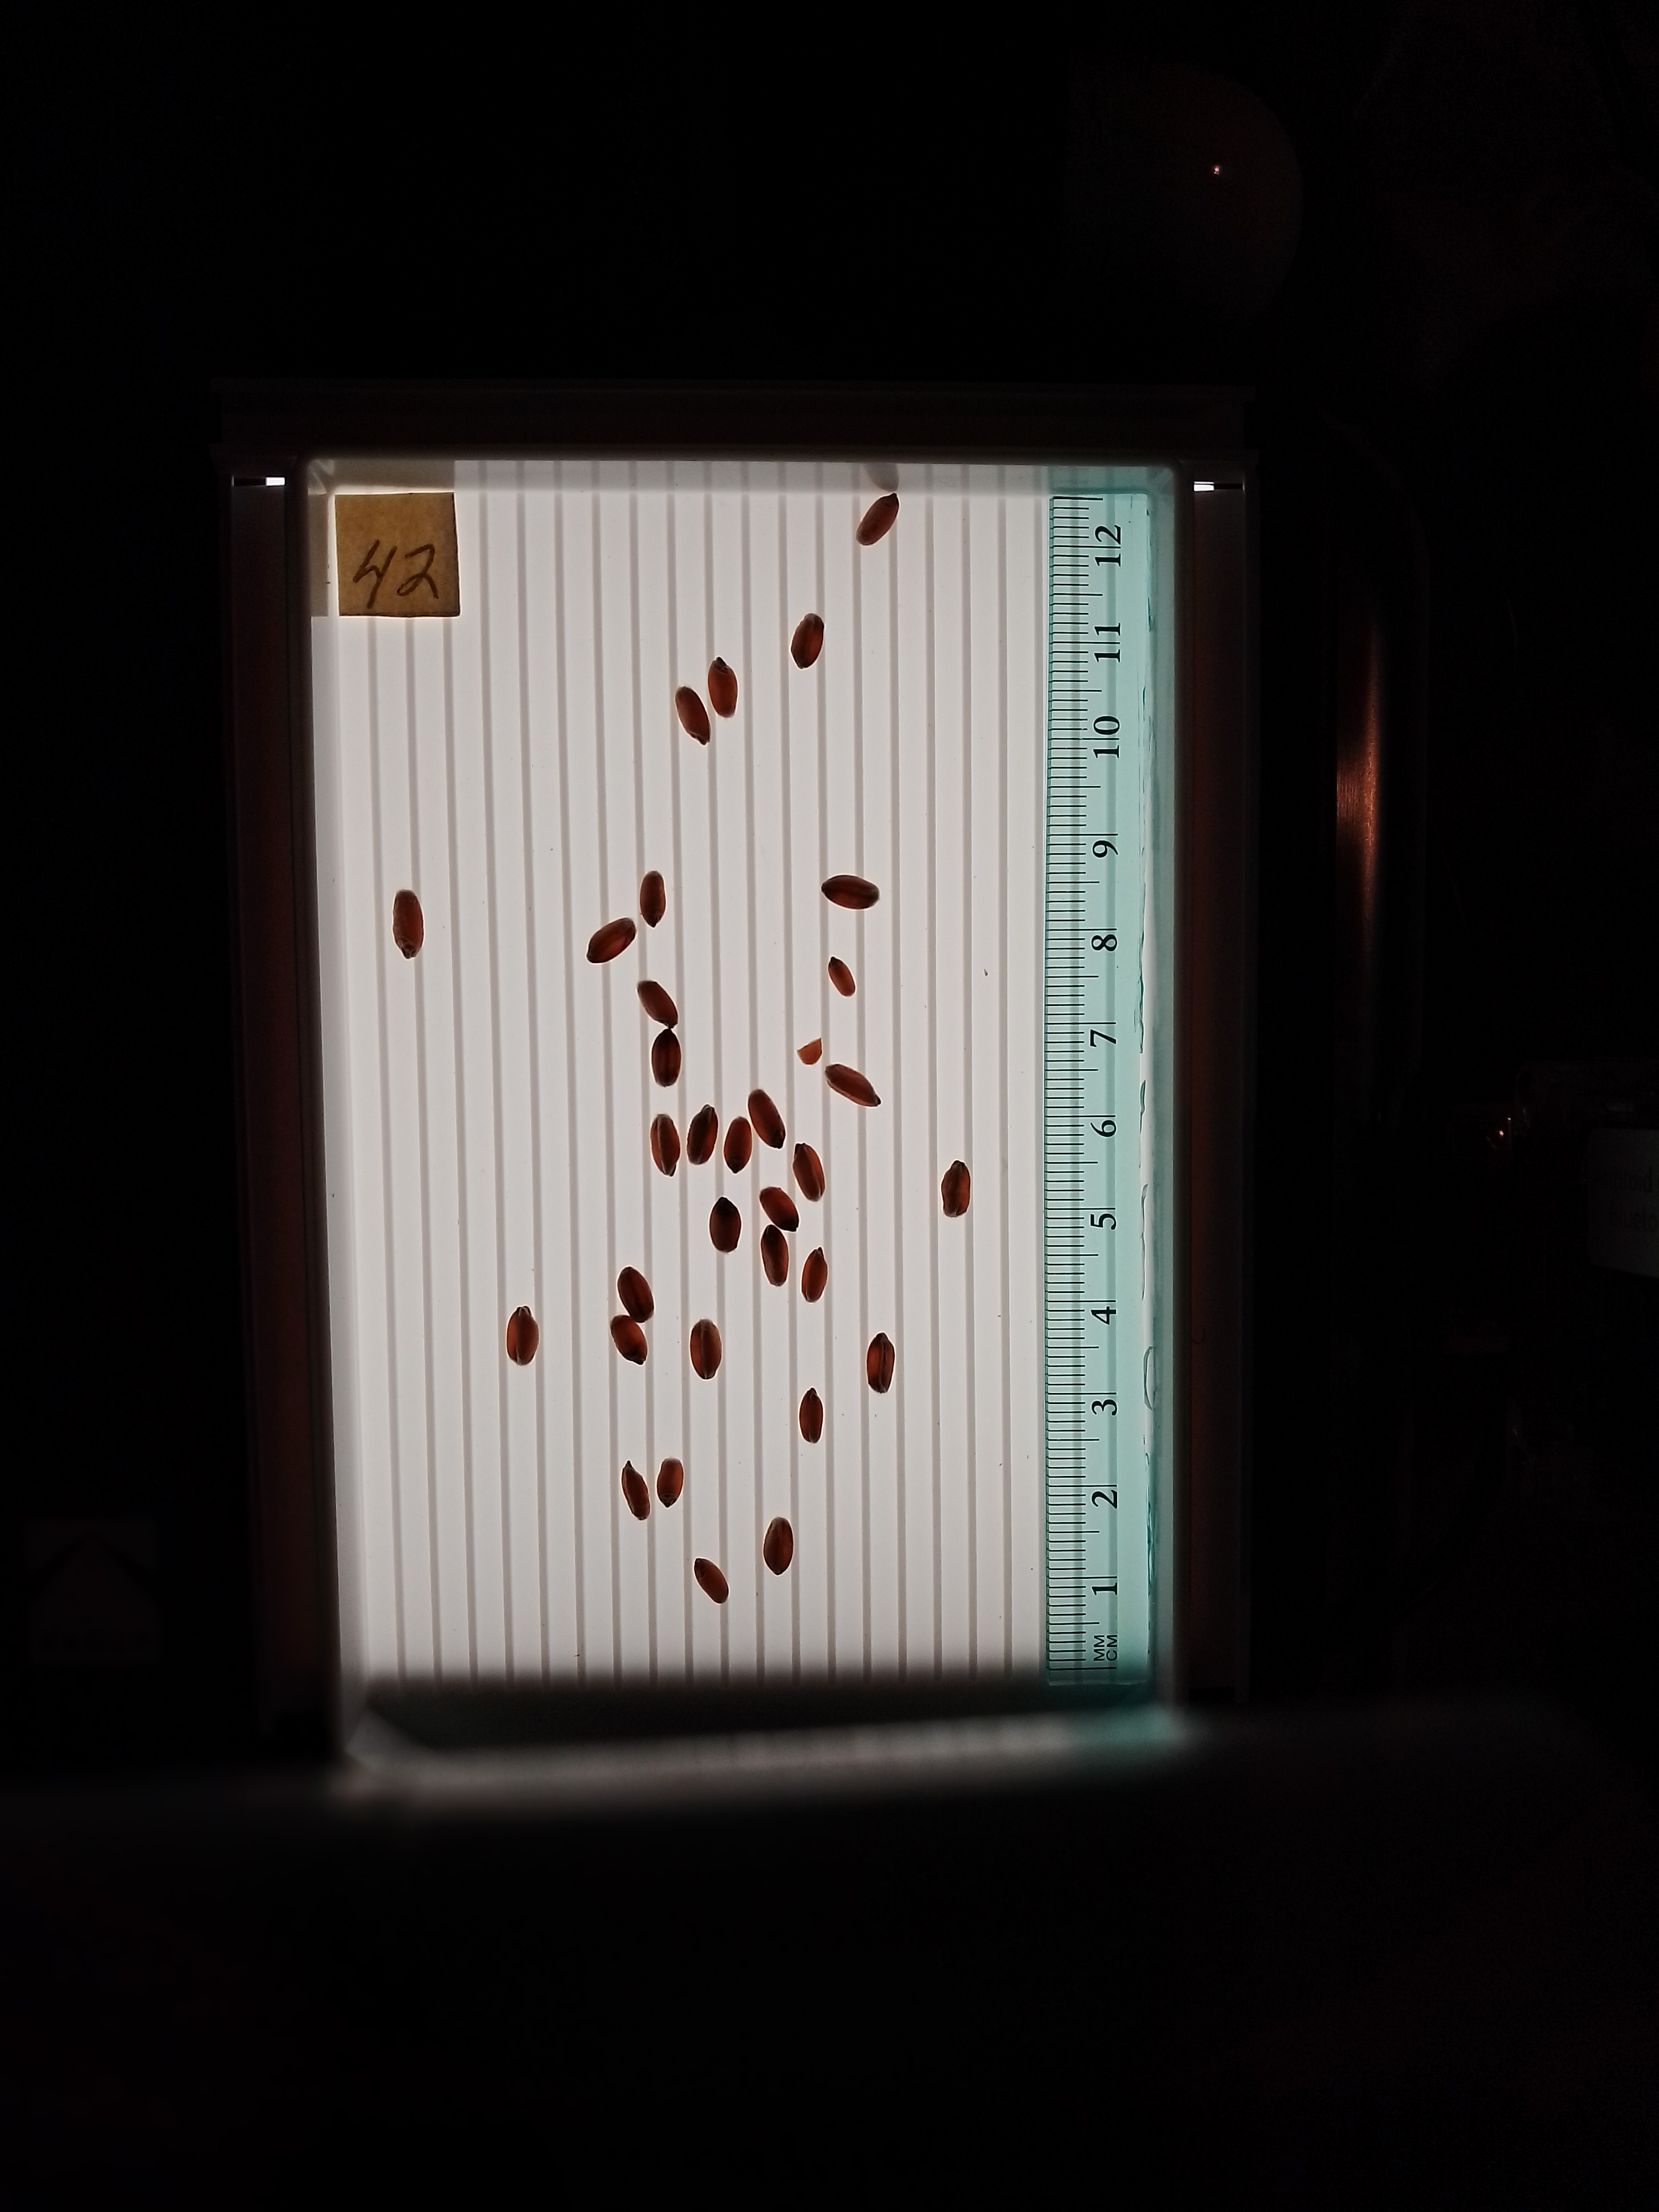seed mask: (824, 1063, 882, 1107), (586, 917, 637, 963), (855, 493, 899, 546), (676, 687, 712, 746), (820, 873, 880, 909), (395, 890, 425, 961), (748, 1091, 786, 1147), (617, 1266, 654, 1323), (505, 1307, 541, 1365), (690, 1318, 722, 1379), (636, 980, 678, 1028), (649, 1114, 681, 1176), (793, 1143, 826, 1201), (789, 613, 823, 669), (687, 1105, 718, 1166), (651, 1027, 682, 1088), (609, 1315, 648, 1363), (708, 1197, 742, 1253), (709, 657, 738, 719), (941, 1160, 972, 1218), (759, 1186, 799, 1230), (622, 1459, 650, 1521), (764, 1518, 793, 1576), (694, 1557, 730, 1603), (724, 1118, 753, 1174), (760, 1227, 787, 1286), (868, 1333, 894, 1393), (640, 871, 666, 927), (656, 1456, 683, 1507), (799, 1387, 823, 1444), (803, 1246, 827, 1301), (827, 957, 855, 997), (797, 1038, 822, 1065)
